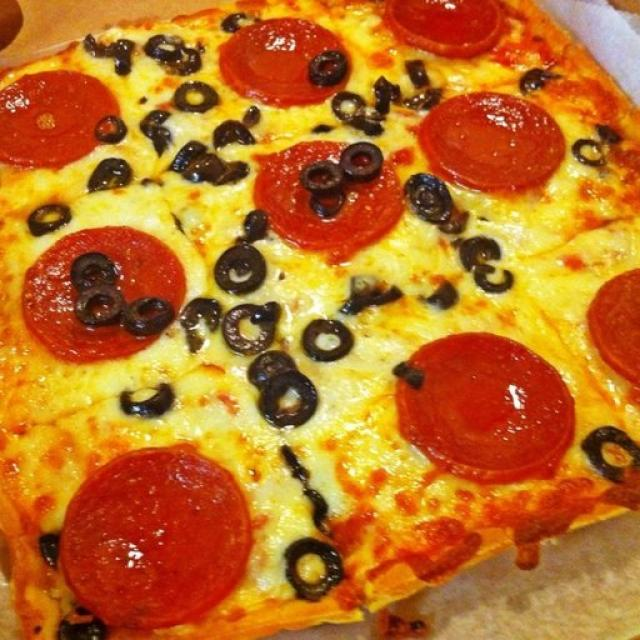Olives: (61, 245, 138, 324), (285, 524, 347, 607), (248, 350, 312, 421), (336, 80, 404, 140), (326, 279, 408, 325), (584, 422, 640, 488), (398, 172, 467, 224), (460, 237, 521, 294), (170, 136, 243, 182), (134, 108, 187, 162), (224, 300, 275, 352), (215, 240, 268, 288), (302, 316, 354, 362), (48, 600, 107, 640), (396, 56, 441, 108), (168, 298, 227, 337), (116, 295, 173, 333), (150, 36, 202, 76), (305, 49, 356, 84), (118, 377, 168, 411), (171, 77, 220, 109), (208, 112, 254, 143), (571, 127, 607, 166), (93, 37, 133, 72), (421, 286, 460, 316), (520, 66, 562, 90), (36, 531, 62, 564)
Pepperoni: (49, 457, 258, 620), (12, 220, 195, 368), (416, 334, 572, 478), (244, 146, 410, 249), (213, 18, 356, 112), (0, 68, 122, 173), (424, 100, 564, 188), (588, 264, 640, 392), (396, 0, 513, 54)
Pizza: (0, 0, 640, 640)
